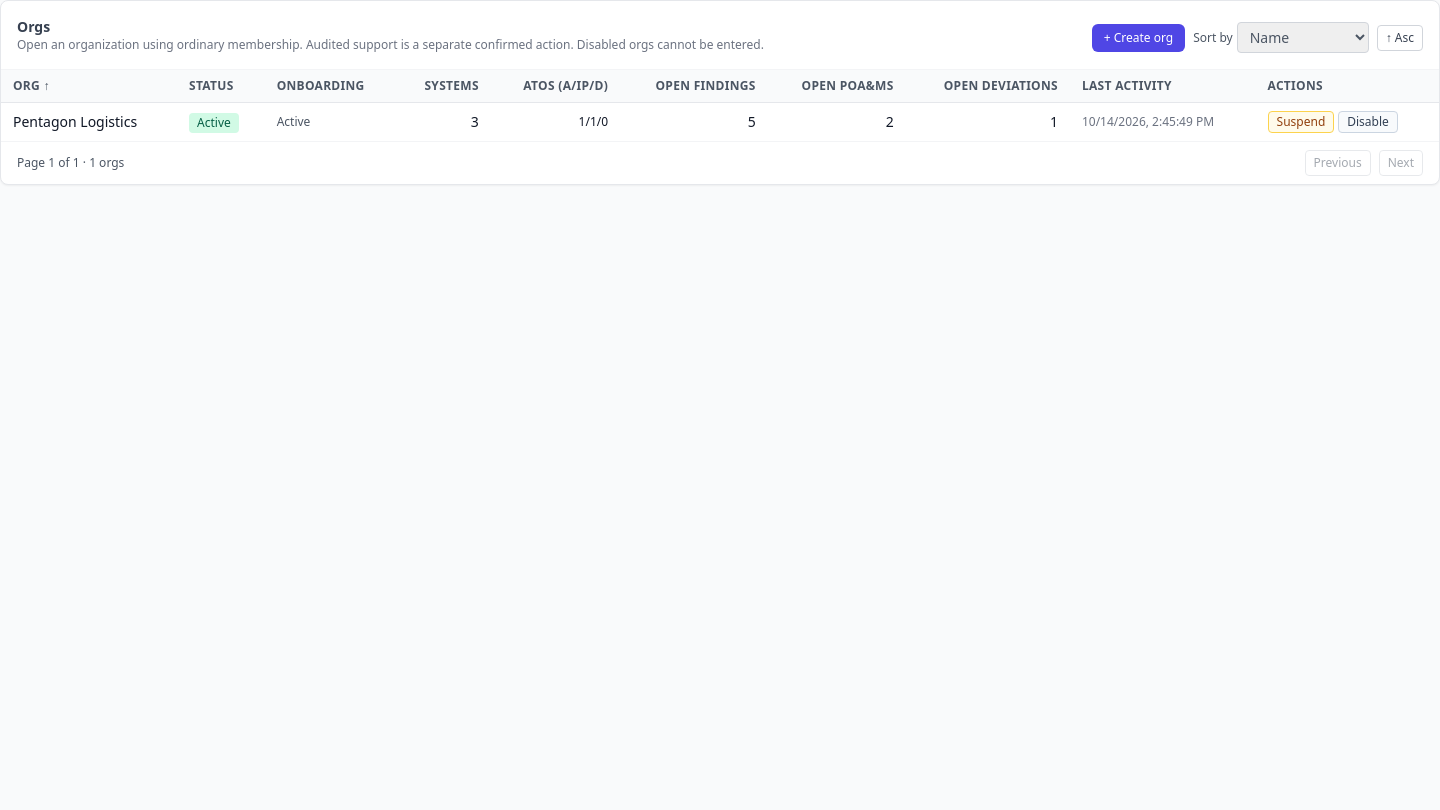
Test: OrgsTable — confirmation dialogs (Wave 6 GAP-221-A) › confirmation dialog shows the org display name
Click the button "Suspend".
click(1301, 122)  # box left=1268, top=111, right=1334, bottom=133
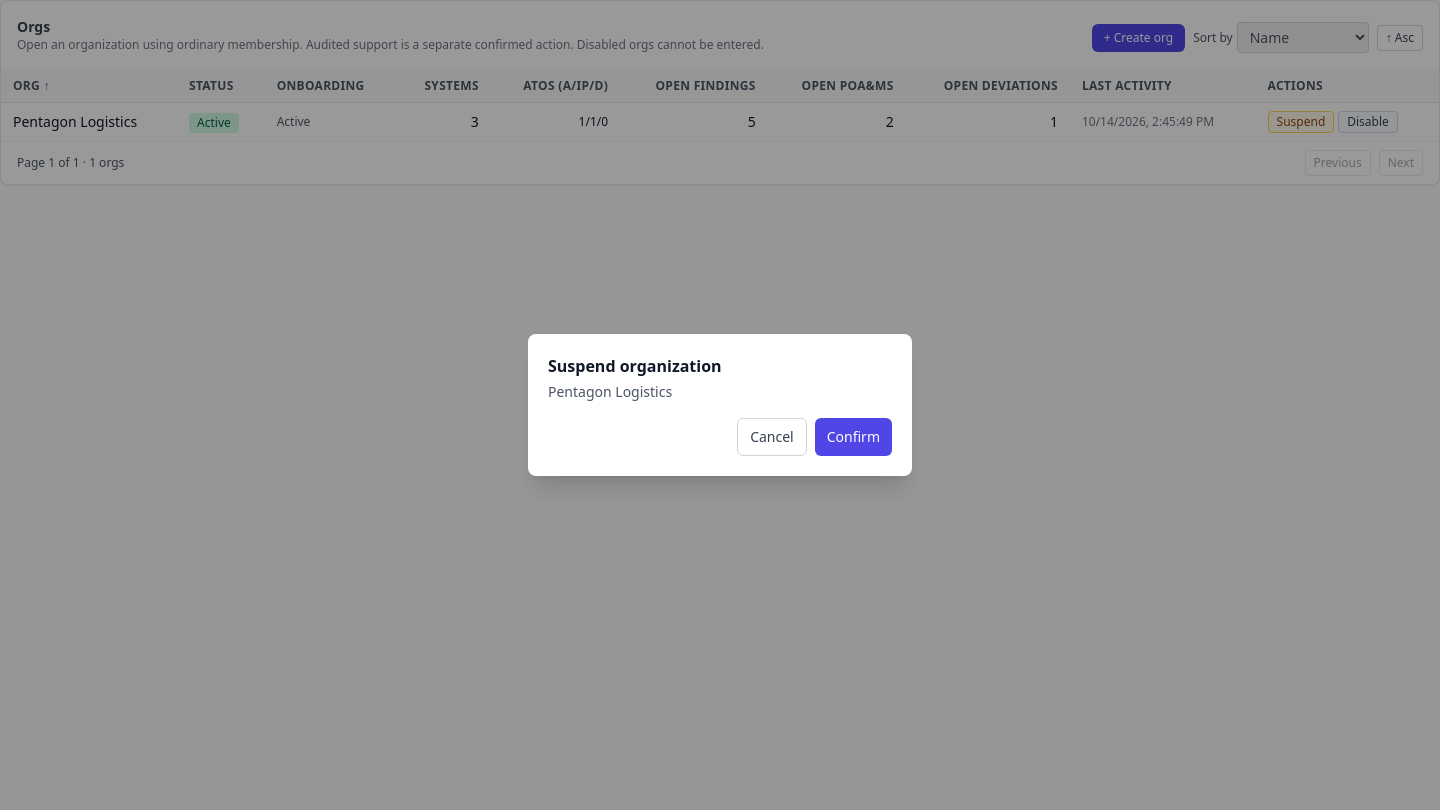
Result: the dialog shows "Pentagon Logistics" at left=548, top=382, right=672, bottom=401
